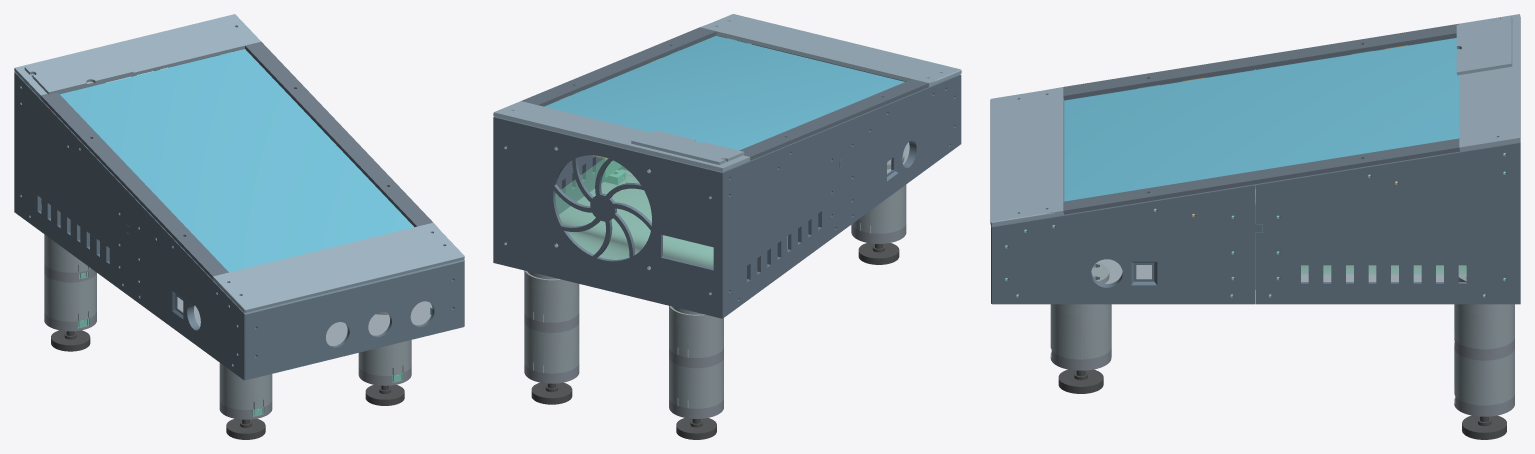
Rendered from cabinet-v1_18.glb.
3 views of the same model, side by side, from view 1: azimuth 30°, elevation 25°; view 2: azimuth 150°, elevation 25°; view 3: azimuth 270°, elevation 25° (orthographic). The views are drawn at different scales.
Parts seen in each view (by area): view 1: REFERENCE_Monitor, left_rear_wall, front_button_panel, left_front_wall, front_cable_lid, rear_control_deck, bezel_right_a1_a2, bezel_left_one_piece, control_hatch, foot_m8_terminal_sleeve_left_rear_55mm, foot_m8_terminal_sleeve_left_front_55mm, foot_m8_terminal_sleeve_right_front_55mm (+9 smaller); view 2: rear_vent_panel, REFERENCE_Monitor, left_rear_wall, left_front_wall, front_cable_lid, REFERENCE_Dell_3050, bottom_rear, rear_control_deck, bezel_right_a1_a2, bezel_left_one_piece, foot_m8_terminal_sleeve_right_rear_55mm, foot_m8_terminal_sleeve_left_rear_55mm (+15 smaller); view 3: REFERENCE_Monitor, right_rear_wall, right_front_wall, front_cable_lid, bezel_right_a1_a2, bezel_left_one_piece, rear_control_deck, control_hatch, foot_m8_terminal_sleeve_right_front_55mm, foot_m8_terminal_sleeve_right_rear_55mm, foot_lock_sleeve_right_rear_1_45mm, bottom_rear (+7 smaller).
Part boxes in pixels (left/top/right/bottom): REFERENCE_Monitor: left=60, top=49, right=413, bottom=272; left_rear_wall: left=14, top=72, right=129, bottom=295; front_button_panel: left=247, top=260, right=461, bottom=379; left_front_wall: left=126, top=193, right=247, bottom=380; front_cable_lid: left=212, top=222, right=464, bottom=312; rear_control_deck: left=14, top=14, right=260, bottom=98; bezel_right_a1_a2: left=245, top=41, right=432, bottom=227; bezel_left_one_piece: left=40, top=92, right=228, bottom=279; control_hatch: left=24, top=46, right=133, bottom=94; foot_m8_terminal_sleeve_left_rear_55mm: left=44, top=273, right=96, bottom=321; foot_m8_terminal_sleeve_left_front_55mm: left=219, top=363, right=272, bottom=409; foot_m8_terminal_sleeve_right_front_55mm: left=358, top=340, right=411, bottom=375; rear_vent_panel: left=496, top=117, right=719, bottom=317; REFERENCE_Monitor: left=544, top=36, right=904, bottom=150; left_rear_wall: left=719, top=123, right=842, bottom=318; left_front_wall: left=839, top=74, right=961, bottom=230; front_cable_lid: left=700, top=14, right=961, bottom=86; REFERENCE_Dell_3050: left=555, top=157, right=713, bottom=268; bottom_rear: left=559, top=175, right=787, bottom=268; rear_control_deck: left=493, top=101, right=750, bottom=171; bezel_right_a1_a2: left=521, top=27, right=716, bottom=106; bezel_left_one_piece: left=739, top=79, right=929, bottom=160; foot_m8_terminal_sleeve_right_rear_55mm: left=524, top=322, right=579, bottom=373; foot_m8_terminal_sleeve_left_rear_55mm: left=669, top=358, right=723, bottom=408; REFERENCE_Monitor: left=1064, top=38, right=1459, bottom=201; right_rear_wall: left=1256, top=142, right=1520, bottom=304; right_front_wall: left=991, top=184, right=1262, bottom=304; front_cable_lid: left=990, top=87, right=1064, bottom=226; bezel_right_a1_a2: left=1063, top=138, right=1459, bottom=214; bezel_left_one_piece: left=1063, top=23, right=1458, bottom=99; rear_control_deck: left=1459, top=14, right=1520, bottom=151; control_hatch: left=1456, top=16, right=1512, bottom=75; foot_m8_terminal_sleeve_right_front_55mm: left=1050, top=304, right=1111, bottom=359; foot_m8_terminal_sleeve_right_rear_55mm: left=1454, top=349, right=1514, bottom=405; foot_lock_sleeve_right_rear_1_45mm: left=1454, top=304, right=1514, bottom=349; bottom_rear: left=1301, top=265, right=1460, bottom=281.
Bounding box in the file's own units: 0.26 × 0.3106 × 0.4705.
